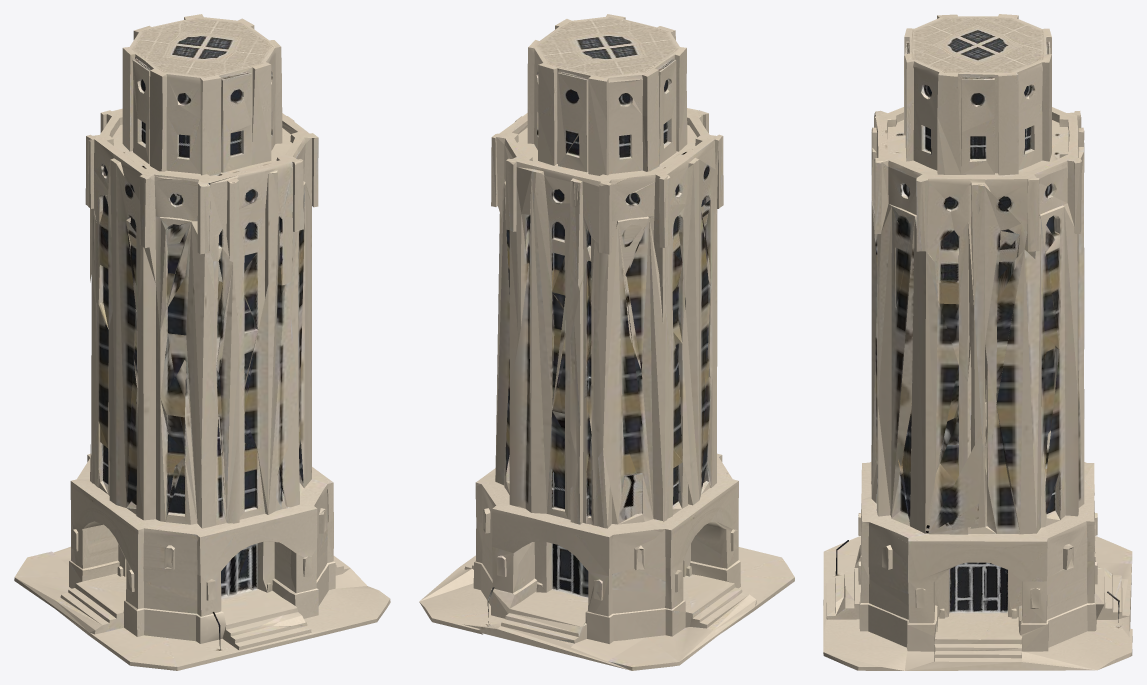
The model's file is teleopBldg_artdeco.9b8dc08f.glb.
3 views of the same model, side by side, from view 1: azimuth 30°, elevation 25°; view 2: azimuth 150°, elevation 25°; view 3: azimuth 270°, elevation 25° (orthographic). The views are drawn at different scales.
Parts seen in each view (by area): view 1: output_unwrapped; view 2: output_unwrapped; view 3: output_unwrapped.
Boxes of the visible parts, x1,y1,x2,y2 form: output_unwrapped: [14, 14, 390, 670]; output_unwrapped: [419, 14, 794, 670]; output_unwrapped: [823, 14, 1132, 670].
Bounding box in the file's own units: 0.9522 × 1.9 × 0.9512.
1 material, 1 textured.
